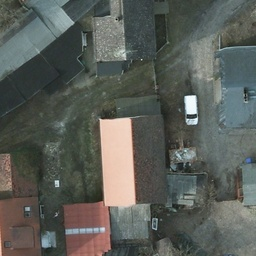car: (182, 94, 199, 125)
